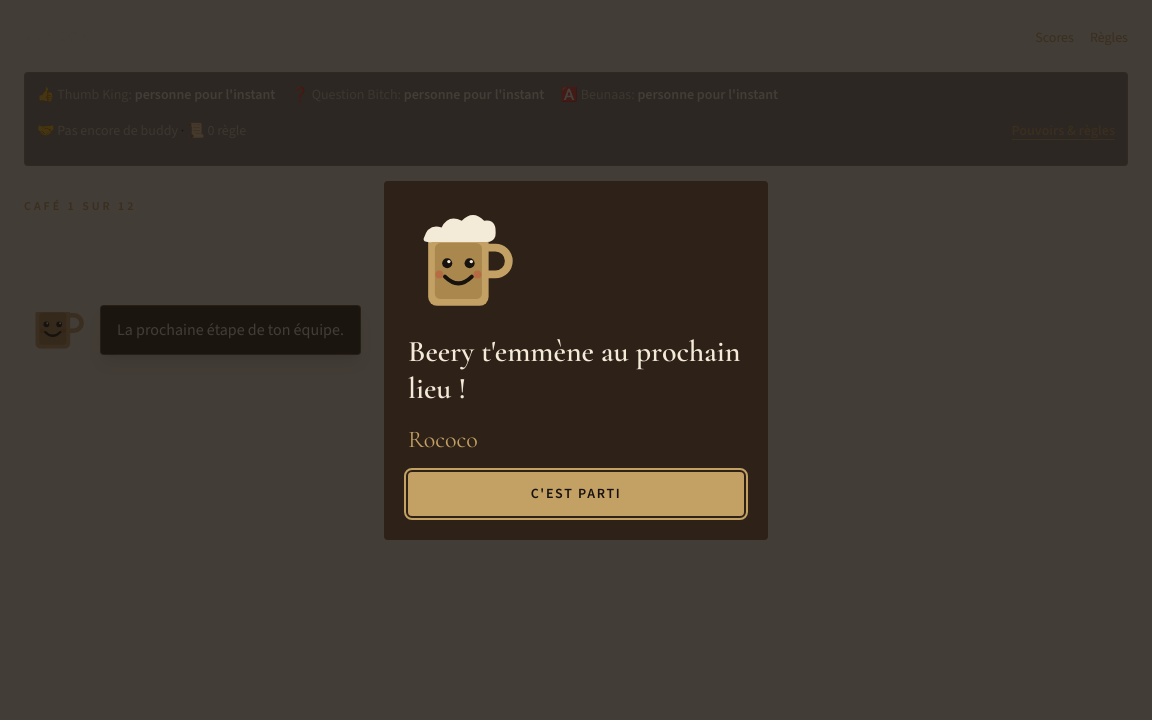
Test case: Hidden Pubs in fr › navigation to the first café: fully in the language
What coordinates should you click on to do the following:
click the button "C'est parti"
I would click on:
 (576, 494)
Its box is [408,472,744,516].
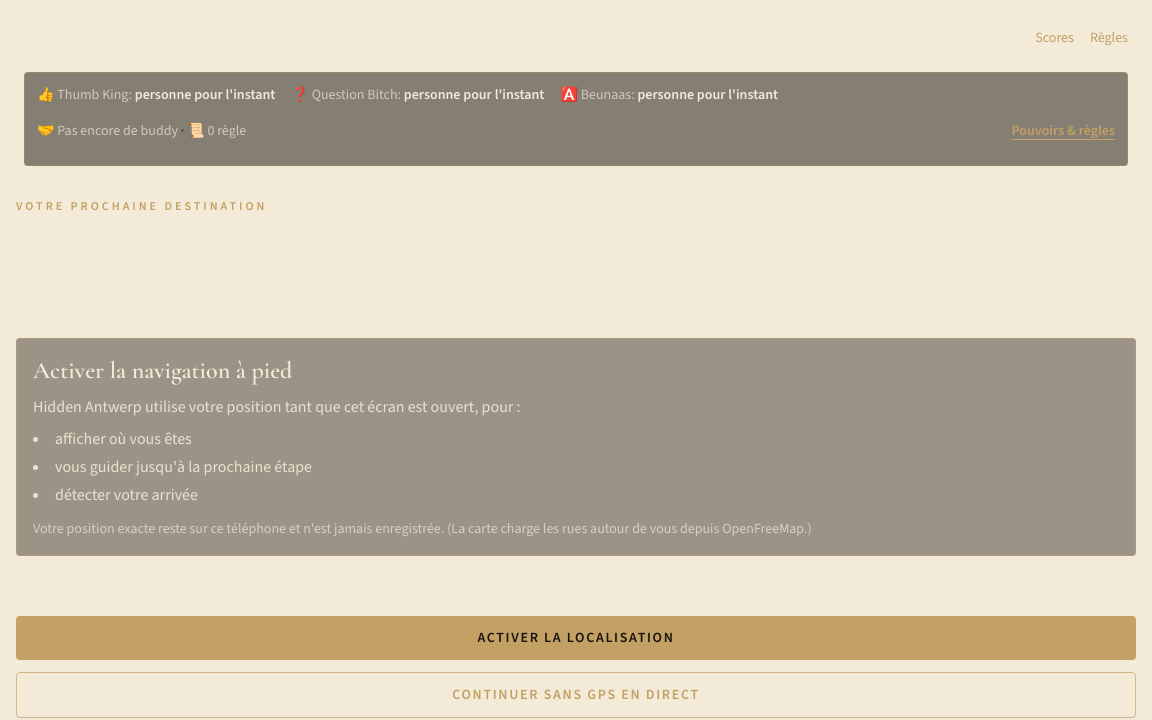
Now the button "Continuer sans GPS en direct" is shown, box [16,672,1136,718]
